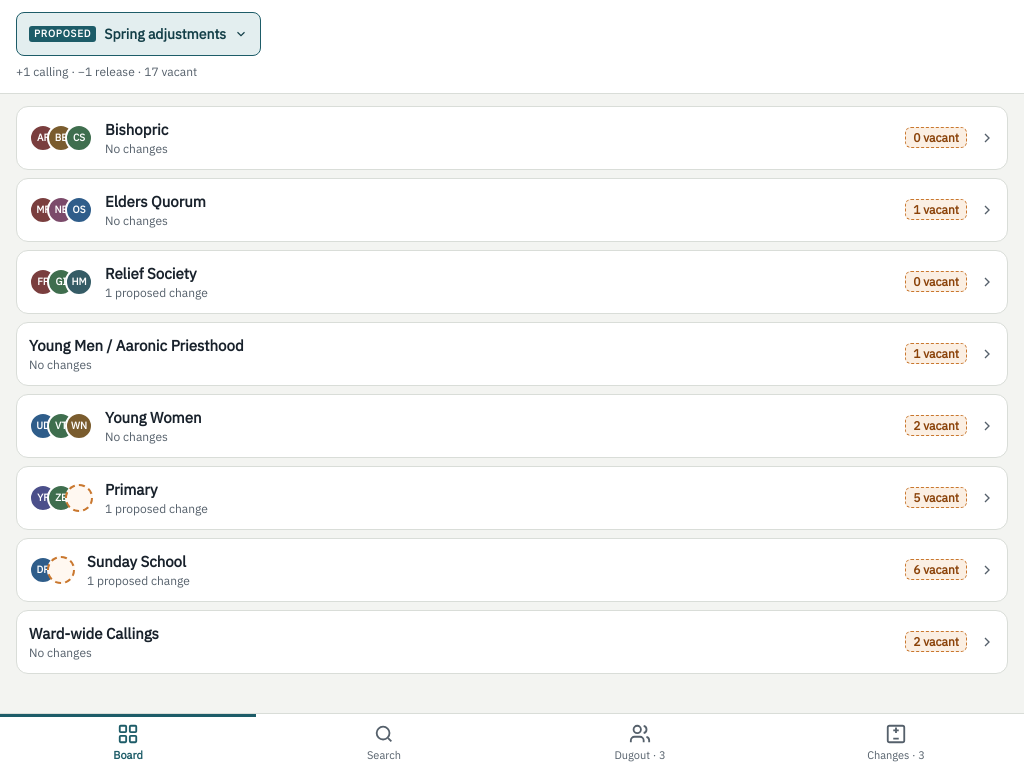
Scenario: PhoneApp › subscribed proposal shows its counts; others show status only
This screenshot has width=1024, height=768.
Click the button with aria-label "Switch board" at (139,34), box [16,12,261,56]
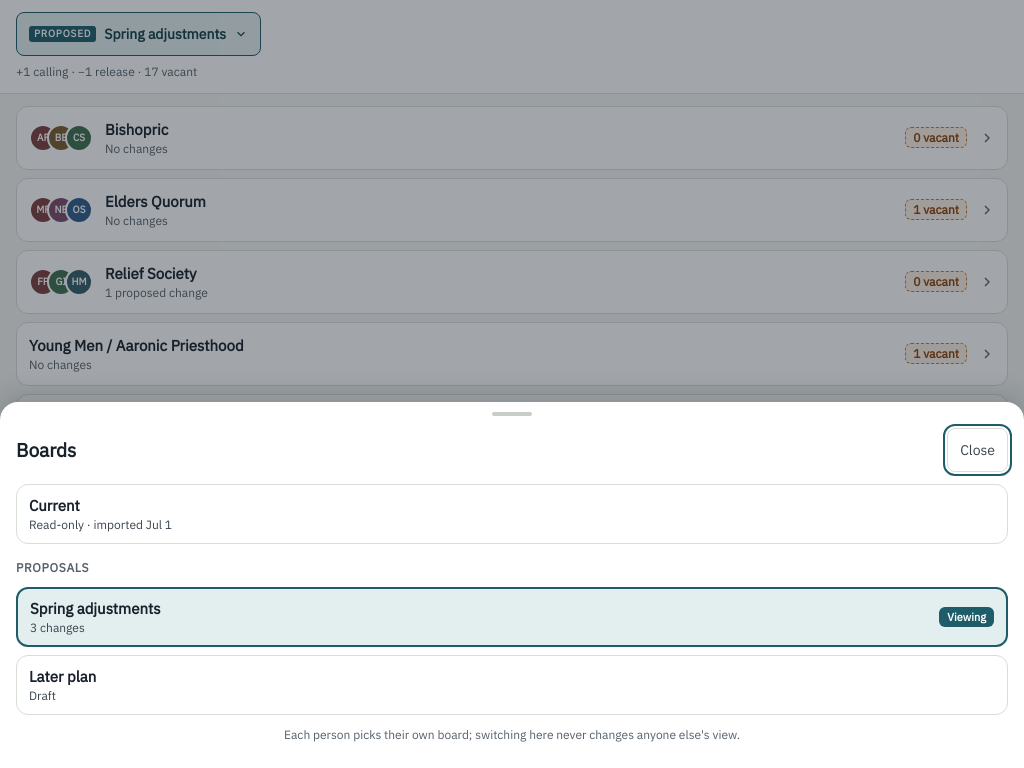
Expected: the button "Later plan Draft" does not show "change", [16,655,1008,715]
Expected: the button "Later plan Draft" is shown, [16,655,1008,715]
